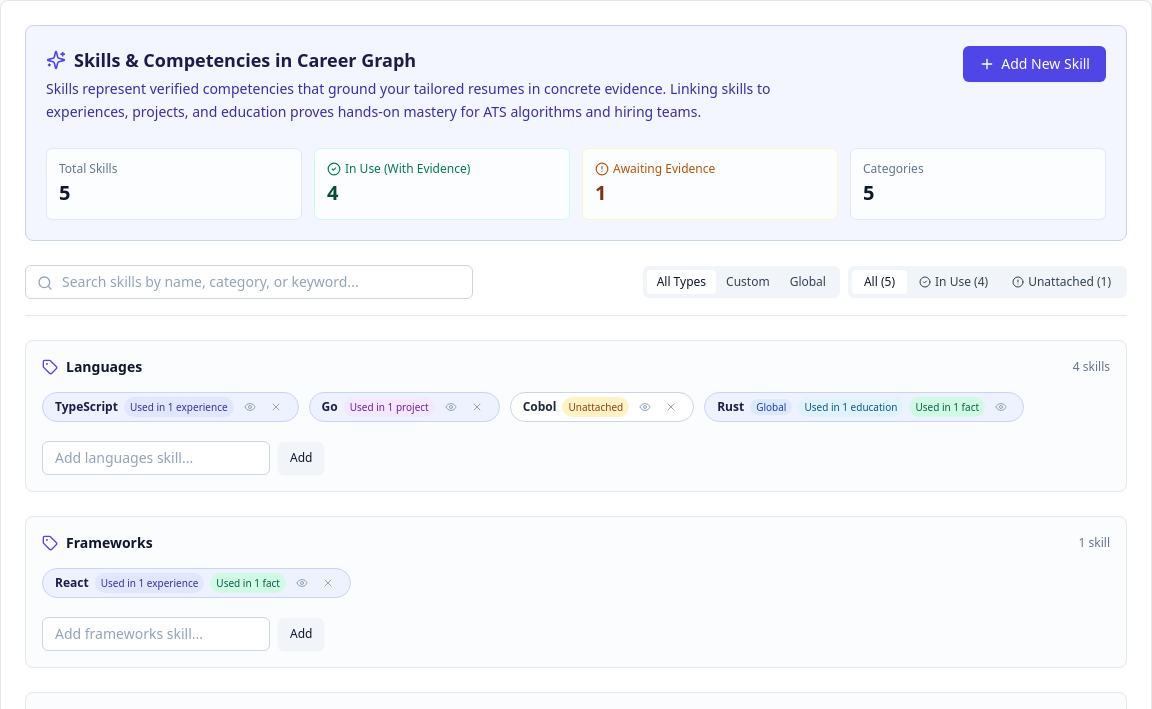
Test: SkillsManager › displays education provenance details in evidence dialog
Rust is linked via Education Fact
Click the button named "View evidence for Rust" at (1001, 406), box [991,396,1011,416]
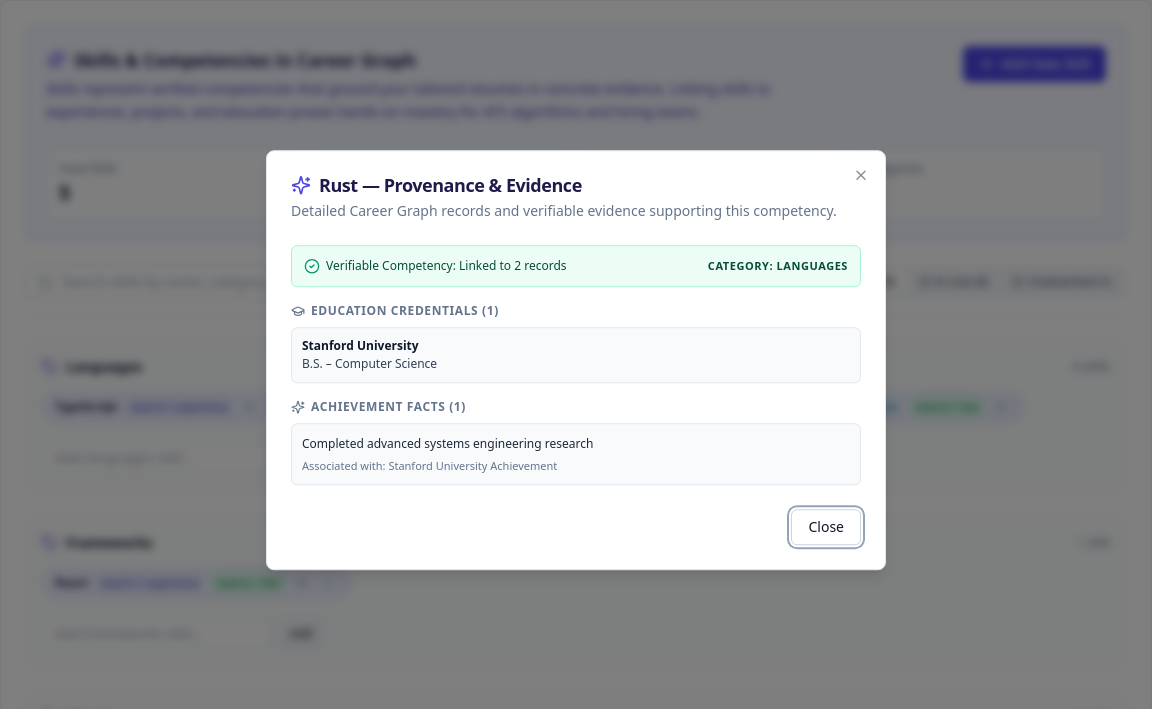
Check: the dialog "Rust — Provenance & Evidence" is shown, box [266,150,886,570]
Check: the text "Completed advanced systems engineering research" is shown, box [302,435,593,452]
